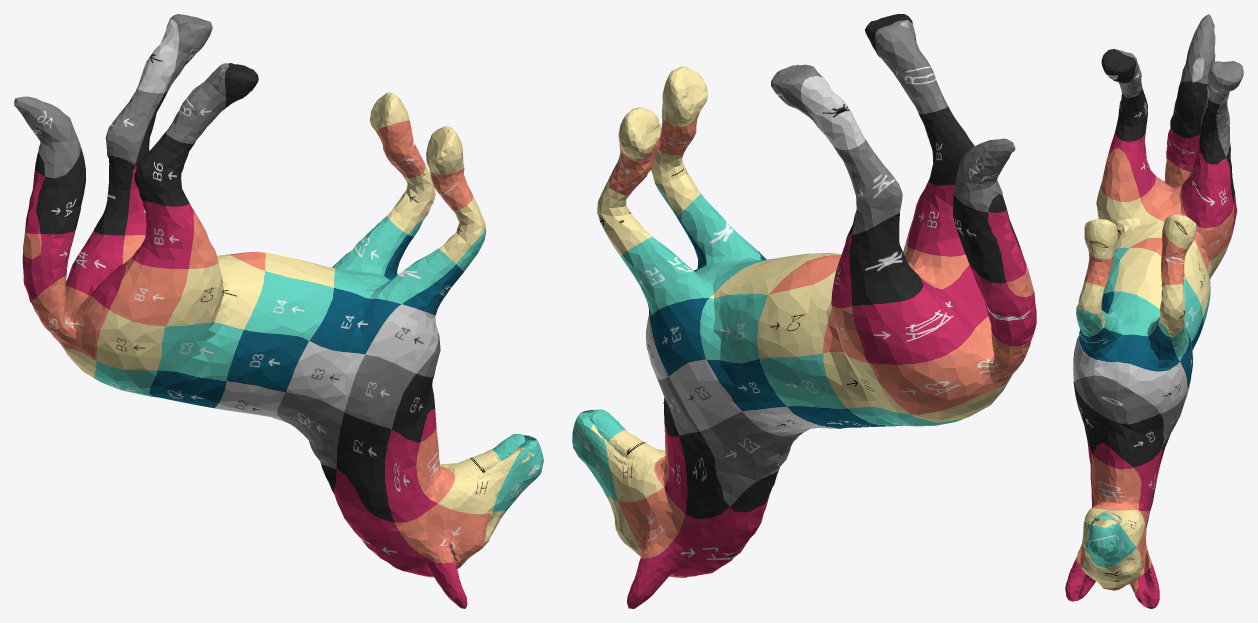
The model's file is wolf_03-horse_08.obj.
3 renders of one model, left to right at view 1: azimuth 30°, elevation 25°; view 2: azimuth 150°, elevation 25°; view 3: azimuth 270°, elevation 25°, orthographic. The views are drawn at different scales.
Parts seen in each view (by area): view 1: wolf_03-horse_08_export; view 2: wolf_03-horse_08_export; view 3: wolf_03-horse_08_export.
Boxes of the visible parts, x1,y1,x2,y2 form: wolf_03-horse_08_export: (14,14,543,608); wolf_03-horse_08_export: (572,14,1036,608); wolf_03-horse_08_export: (1065,14,1243,608).
Bounding box in the file's own units: 0.8288 × 0.9724 × 0.3354.
